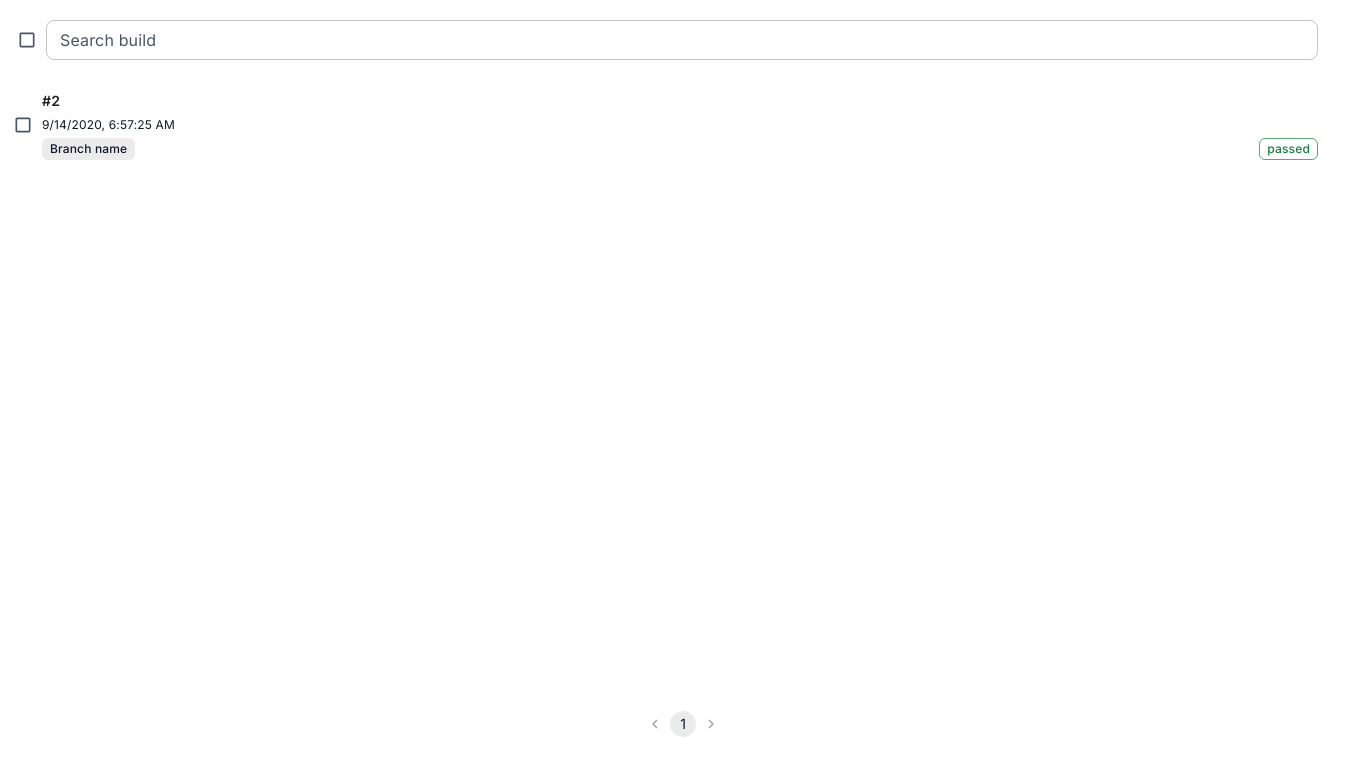
Test: BuildList › build search › tells which search found no builds
The image size is (1366, 780).
Expected: the heading "#2" is shown, [42,92,60,109]
Type "nope" into the field labelled "Search build" at (682, 40), box [46,20,1318,60]
Then press Enter
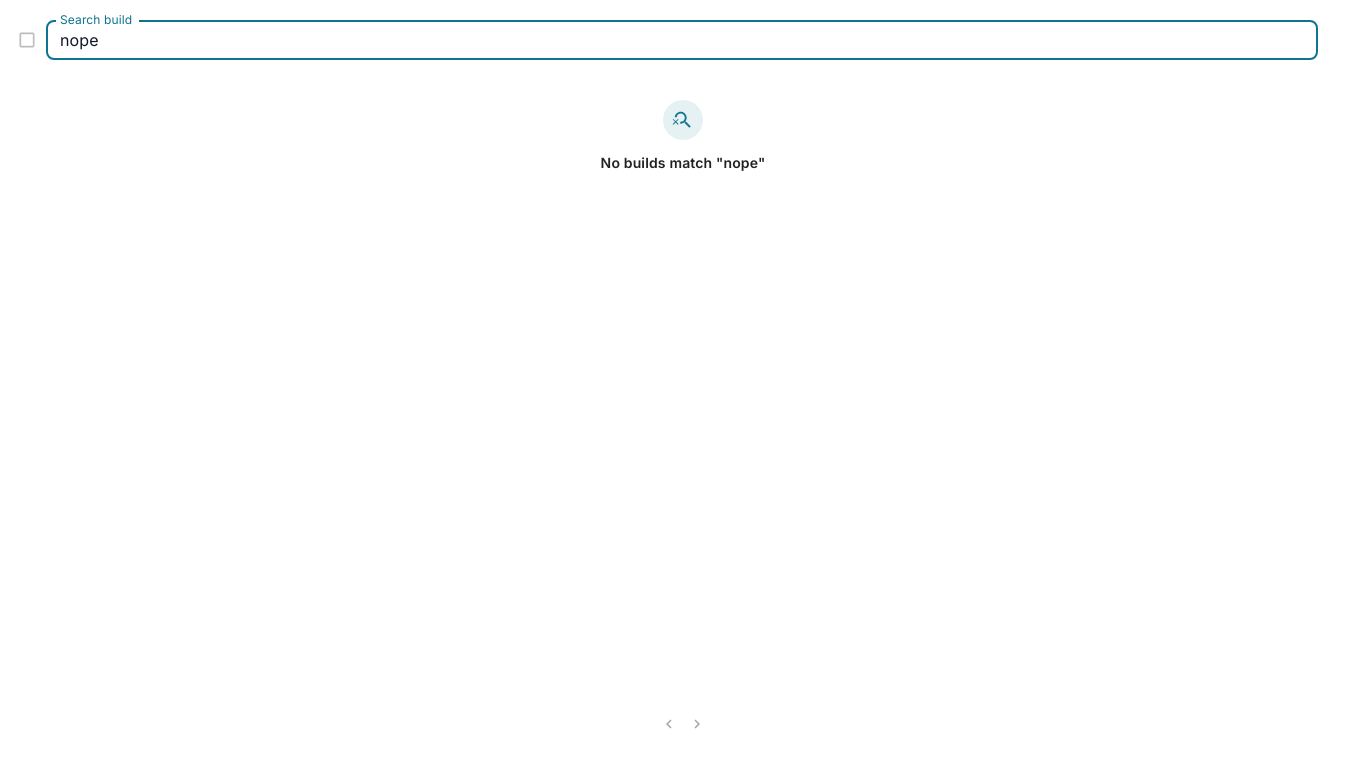
Now the heading "No builds match \"nope\"" is shown, box [601,152,765,174]
